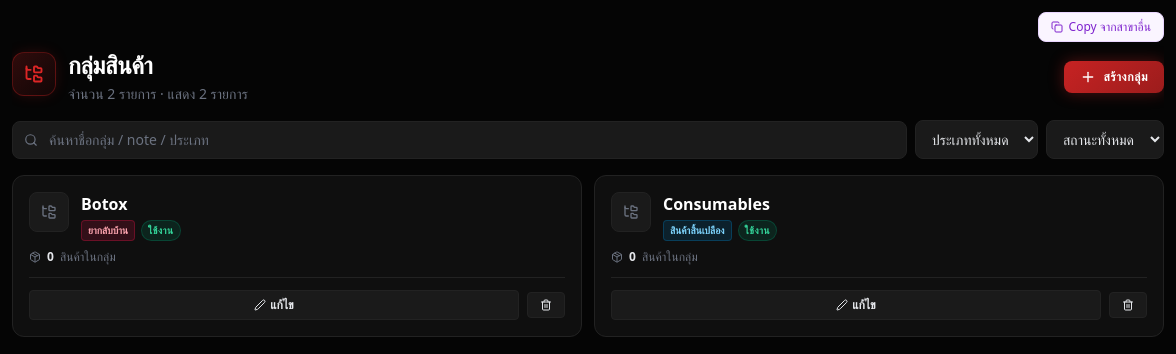
Test case: ProductGroupsTab — PU1..PU10 › PU4: type filter narrows the list
Expected: the heading "Botox" is shown, x1=81 y1=193 x2=127 y2=215
Select "สินค้าสิ้นเปลือง" in the 1st dropdown showing "ประเภททั้งหมด" at (976, 140), box x1=915 y1=120 x2=1038 y2=159
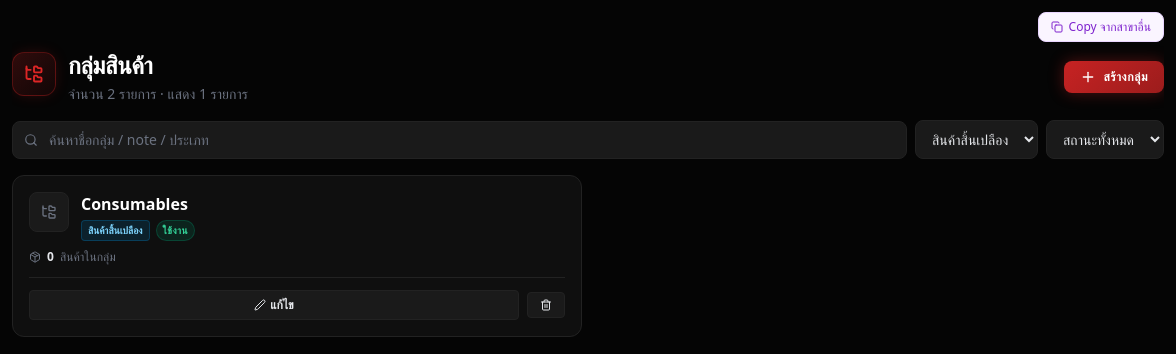
Expected: the heading "Consumables" is shown, x1=81 y1=193 x2=188 y2=215
Expected: the heading "Botox" is gone
